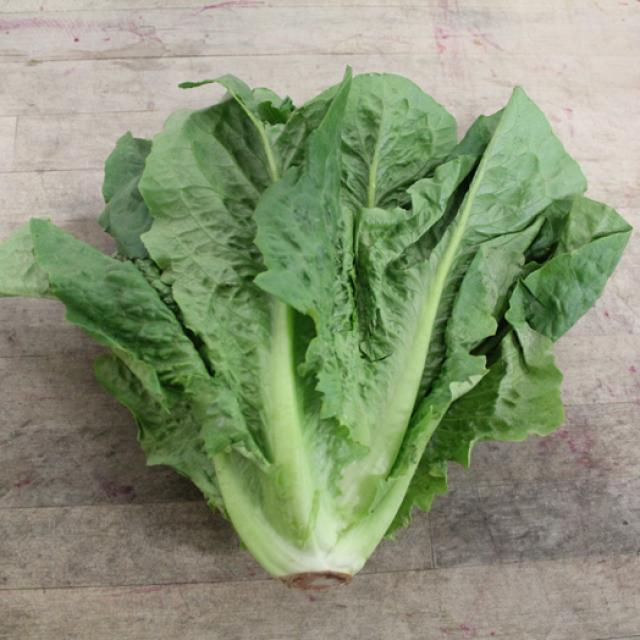Lettuce head: (46, 65, 606, 415)
